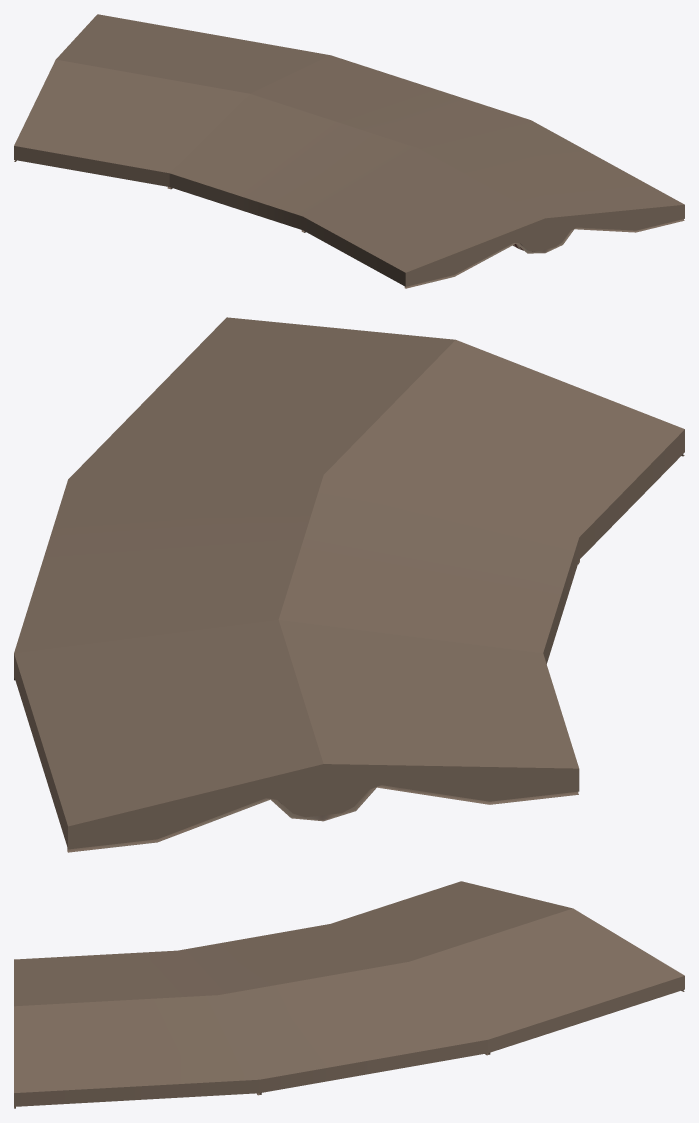
File: F_Ceiling_Hallway_Curved.fbx
3 renders of one model, top to bottom at view 1: azimuth 30°, elevation 25°; view 2: azimuth 150°, elevation 25°; view 3: azimuth 270°, elevation 25°, orthographic. The views are drawn at different scales.
Visible parts, largest first — view 1: Ceiling_Curved; view 2: Ceiling_Curved; view 3: Ceiling_Curved.
Boxes of the visible parts, left/top/right/bottom form: Ceiling_Curved: left=14, top=14, right=684, bottom=288; Ceiling_Curved: left=14, top=317, right=684, bottom=852; Ceiling_Curved: left=14, top=881, right=684, bottom=1108.
Bounding box in the file's own units: 634 × 55.54 × 849.
